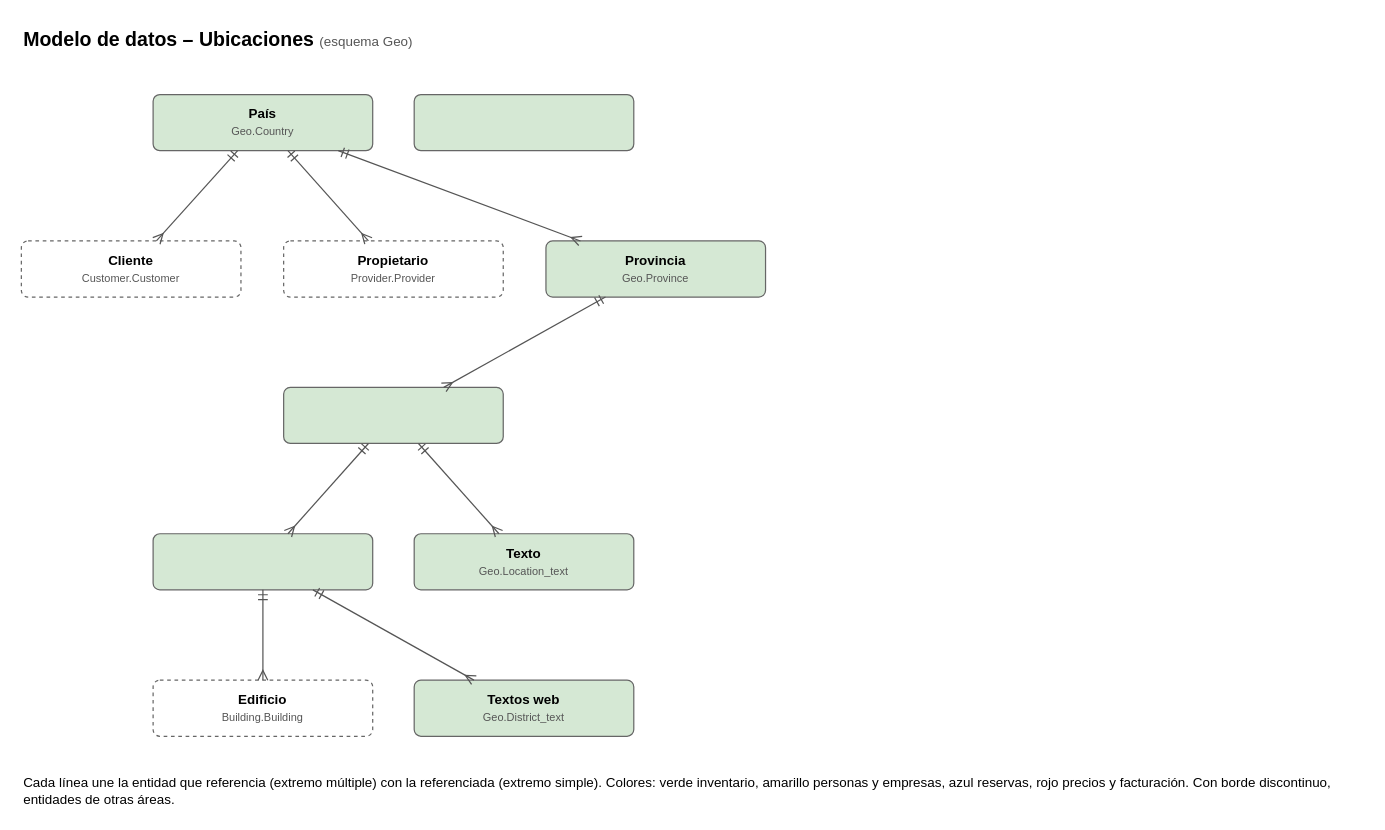
This 1385x830 diagram has some shape labels left out. The centre of each missing label's shape, as x and y in pixels:
"Barrio Geo.District" belongs at point (262, 561).
"Localidad Geo.Location" belongs at point (392, 414).
"Oficina Geo.Office" belongs at point (523, 122).
